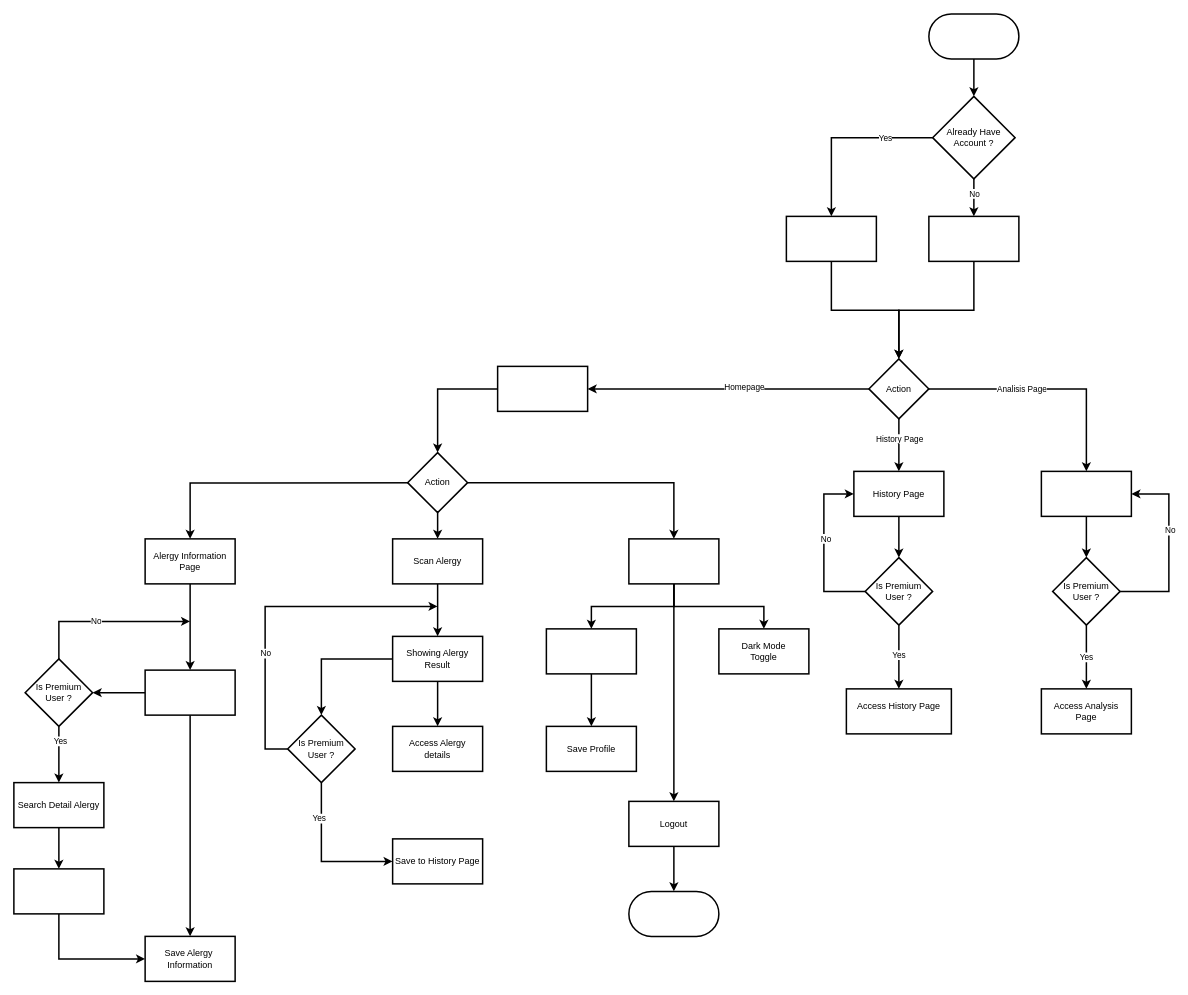
This 1188x995 diagram has some shape labels left out. The centre of each missing label's shape, as x and y in pixels:
Analysis Page: [1086,493]
Edit Profile: [591,651]
END: [673,913]
Home Pages: [542,388]
Login: [831,238]
Register: [973,238]
Save Detail Alergy: [58,891]
Search Alergy Category: [190,692]
Setting Page: [673,561]
Start: [973,36]
